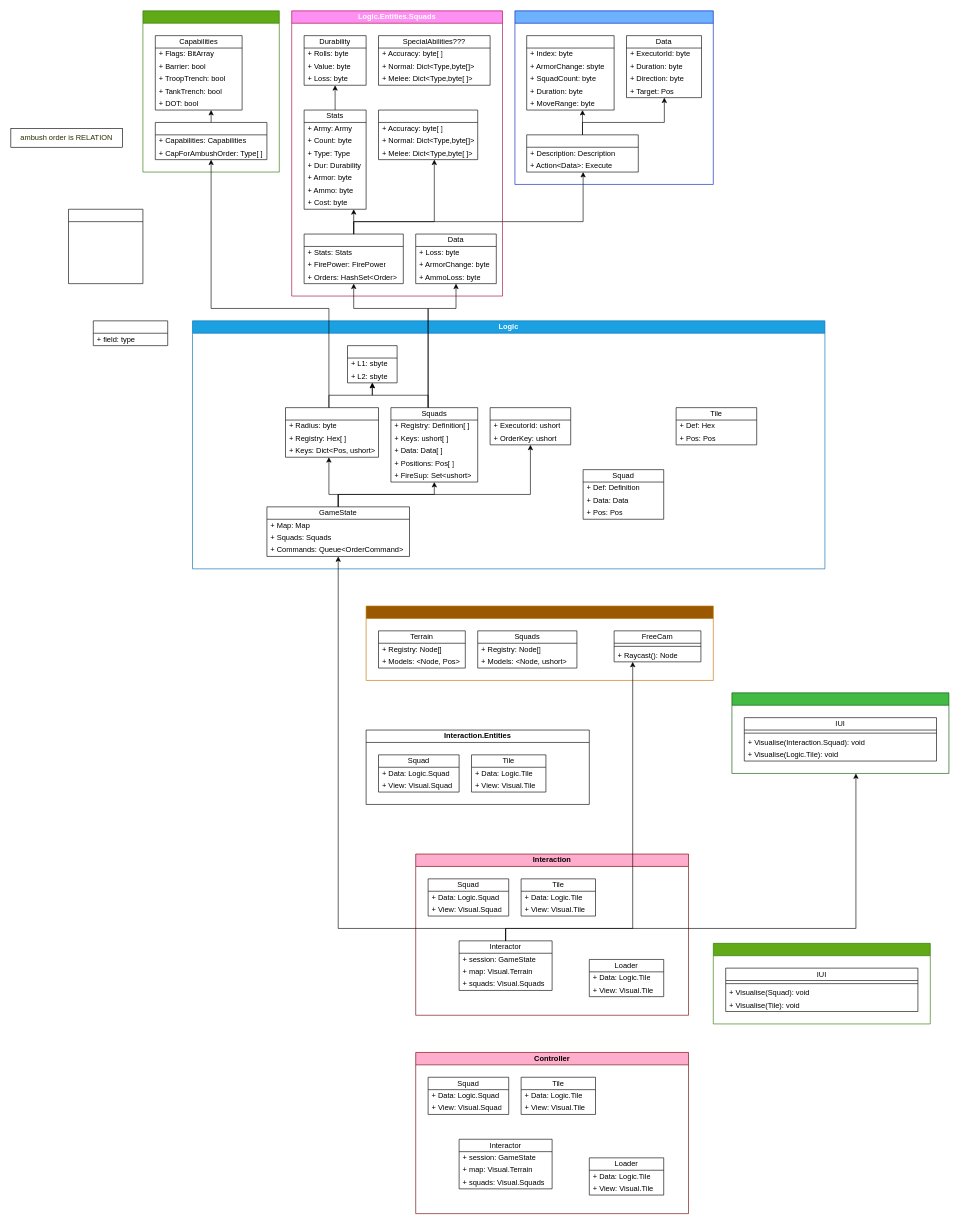
This 960x1225 diagram has some shape labels left out. Here are the shapes that lost their labels. From the top down, the box of each, then its label:
(142, 10, 279, 172): Logic.Entities.Tiles
(526, 35, 614, 110): Description
(514, 10, 713, 184): Logic.Entities.Orders
(155, 122, 267, 160): Hex
(378, 109, 478, 160): FirePower
(526, 134, 638, 172): Order
(68, 209, 143, 284): Orders
(303, 233, 403, 284): Definition
(93, 320, 168, 346): Lorem
(347, 345, 397, 383): Pos
(285, 407, 379, 457): Map
(489, 407, 571, 445): OrderCommand
(365, 605, 713, 680): Visual
(731, 692, 949, 773): Visual.UI
(713, 943, 930, 1024): Intercation.UI
